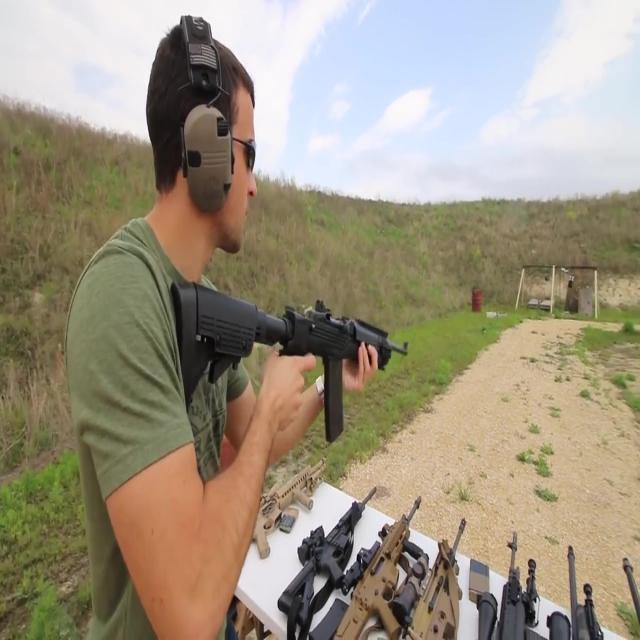Weapon: (213, 450, 640, 640), (151, 240, 458, 446)
